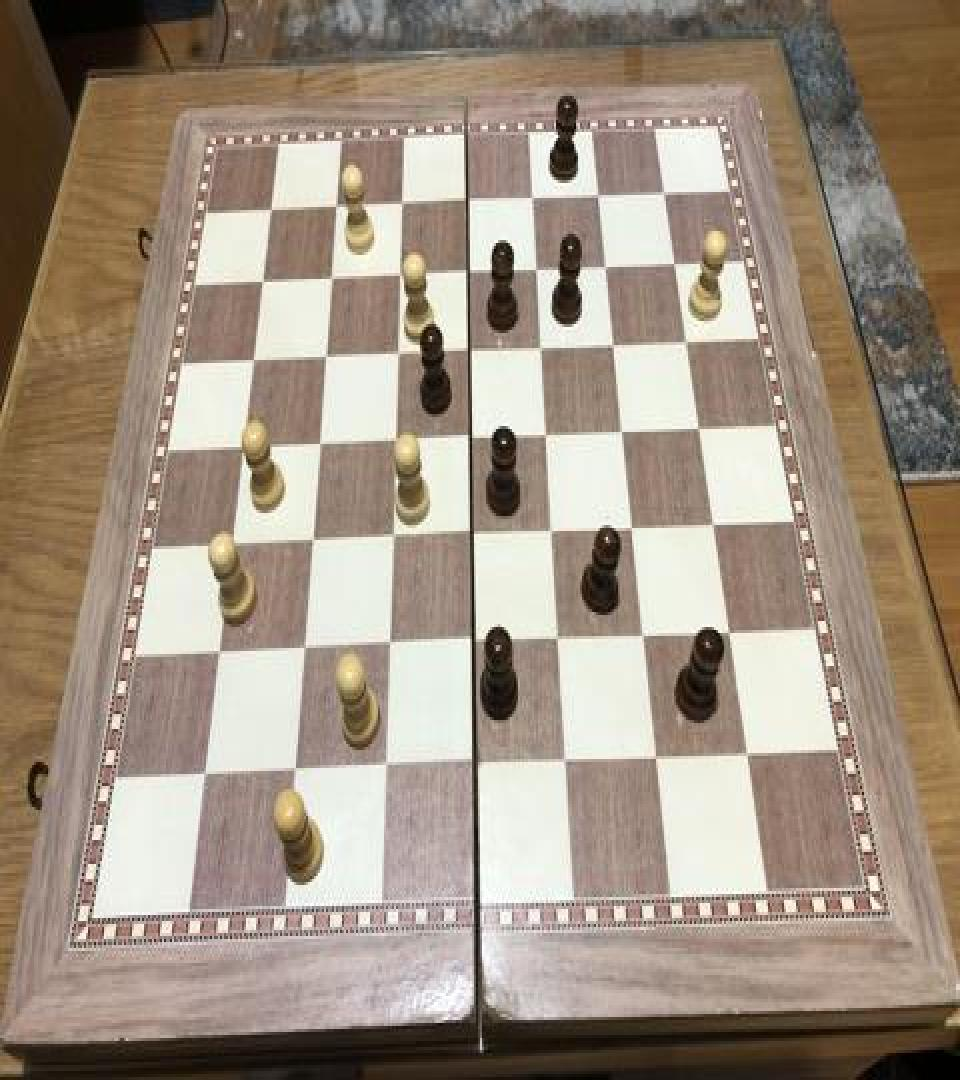xcorner: (461, 520, 485, 557), (548, 625, 572, 662), (377, 631, 401, 668), (738, 739, 762, 776), (373, 754, 397, 791), (656, 174, 680, 210), (590, 177, 614, 213), (523, 180, 547, 216), (457, 183, 481, 219), (390, 186, 414, 222), (324, 189, 348, 225), (258, 192, 282, 228), (667, 246, 691, 282), (597, 249, 621, 285), (527, 252, 551, 288), (457, 255, 481, 291), (388, 258, 412, 294), (319, 261, 343, 297), (249, 264, 273, 300), (678, 326, 702, 362), (532, 332, 556, 368), (459, 334, 483, 370), (386, 338, 410, 374), (313, 340, 337, 376), (614, 416, 638, 452), (537, 418, 561, 454), (460, 423, 484, 459), (383, 426, 407, 462), (306, 429, 330, 465), (230, 432, 254, 468), (705, 510, 729, 546), (623, 513, 647, 549), (542, 516, 566, 552), (380, 524, 404, 560), (299, 526, 323, 562), (219, 530, 243, 566), (721, 618, 745, 654), (634, 621, 658, 657), (462, 628, 486, 664), (291, 634, 315, 670), (206, 639, 230, 675), (647, 744, 671, 780), (555, 747, 579, 783), (464, 750, 488, 786), (283, 758, 307, 794), (192, 760, 216, 796), (605, 329, 629, 364), (240, 344, 264, 379), (691, 413, 715, 448)
